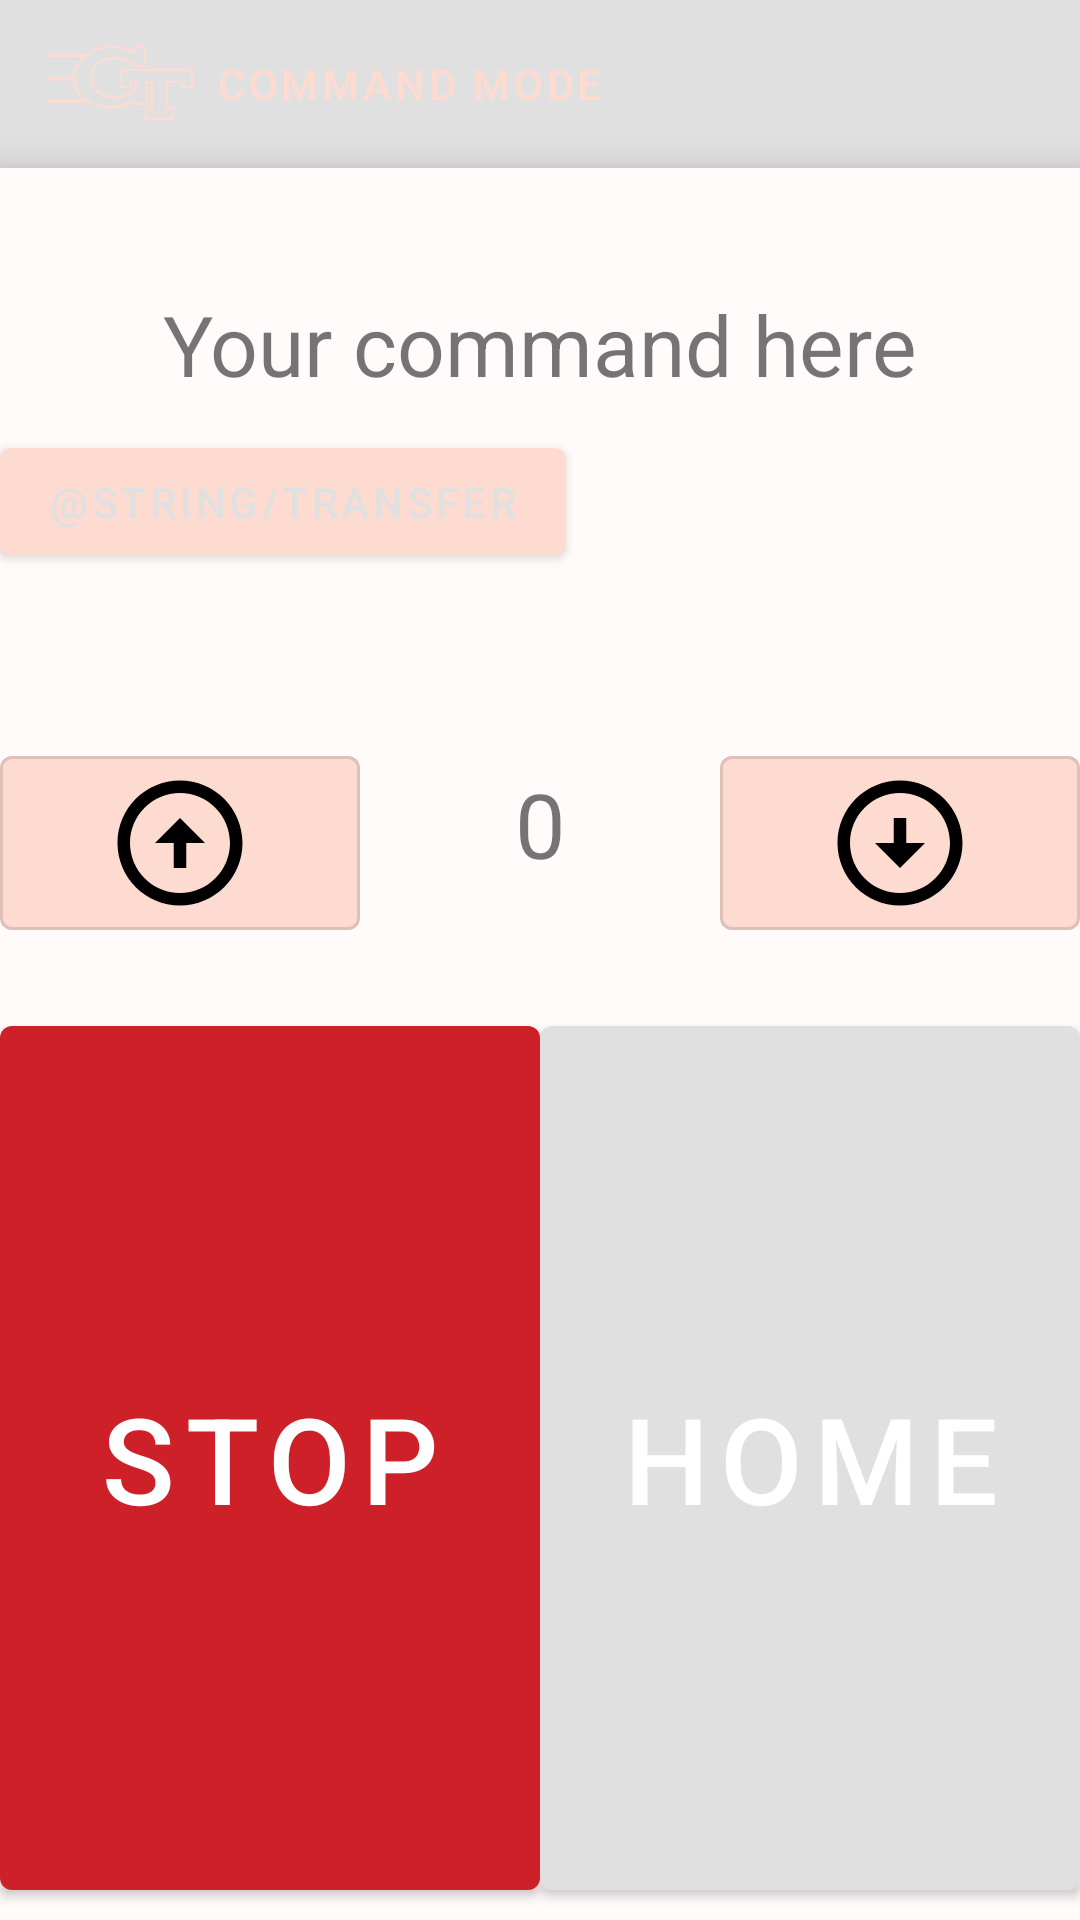

Icon bounding boxes for this 1080x1920 phone screenshot, format (x1, y1, x2, y2):
arrow circle down: (720, 756, 1080, 930)
arrow circle up: (0, 756, 360, 930)
